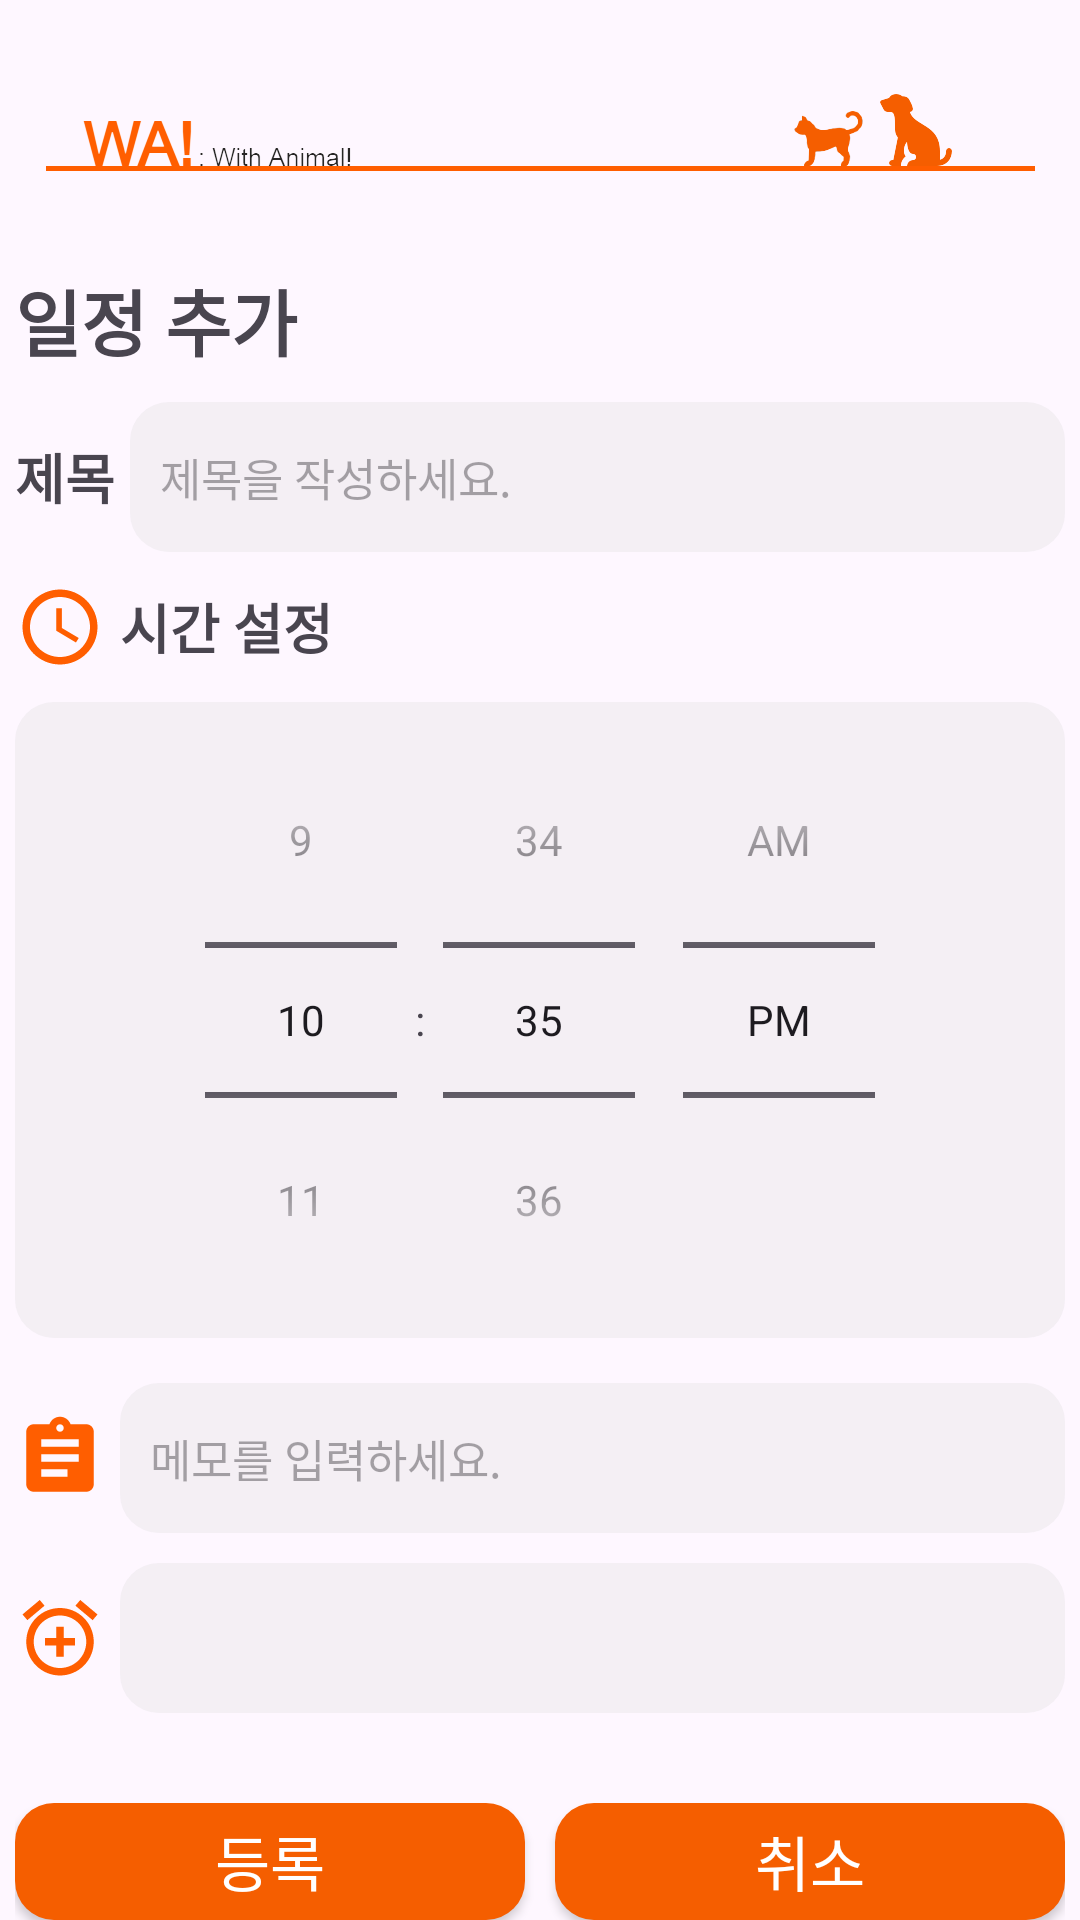

Named icons in this screenshot (1080w x 1920h) and their centers, (x=x, y=y):
access time: (x=60, y=627)
add alarm: (x=60, y=1638)
assignment: (x=60, y=1454)
